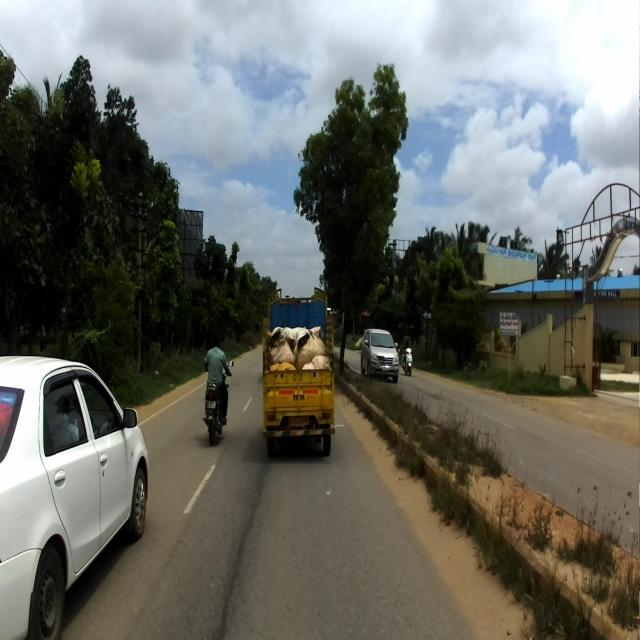Car_Toyota: (0, 349, 149, 637)
motorcycle_Hero: (203, 358, 233, 442)
truck: (261, 282, 334, 456)
